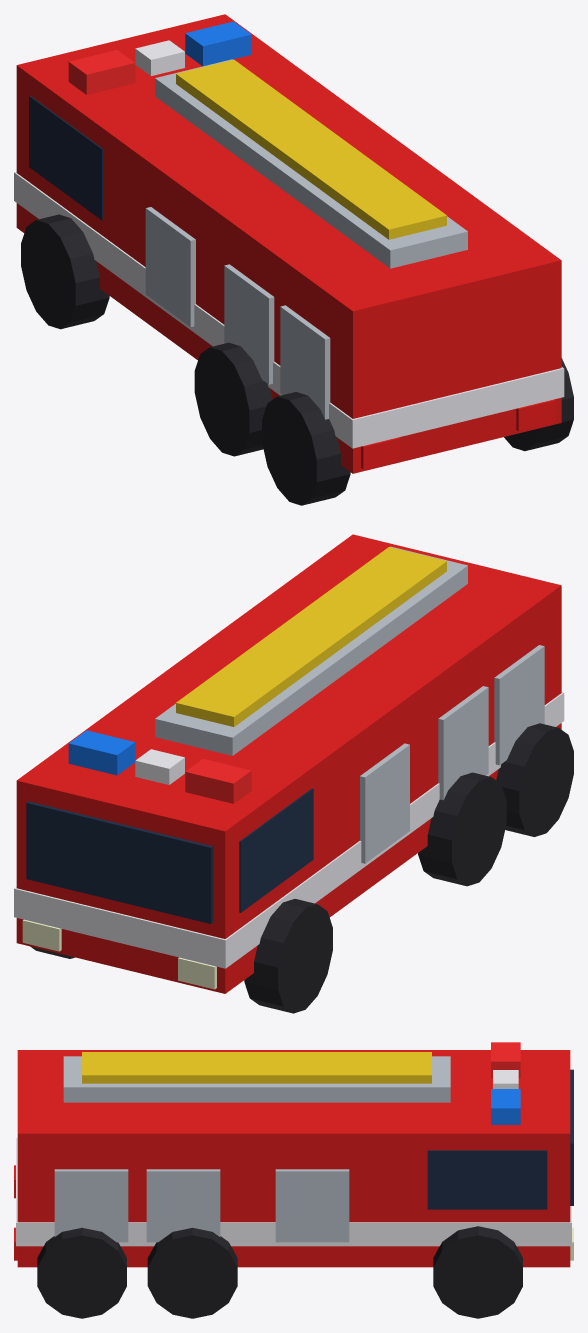
Rendered from firetruck.obj.
3 renders of one model, top to bottom at view 1: azimuth 30°, elevation 25°; view 2: azimuth 150°, elevation 25°; view 3: azimuth 270°, elevation 25°, orthographic. The views are drawn at different scales.
Size of the model in its own units: 2.65 by 2.44 by 6.08.
